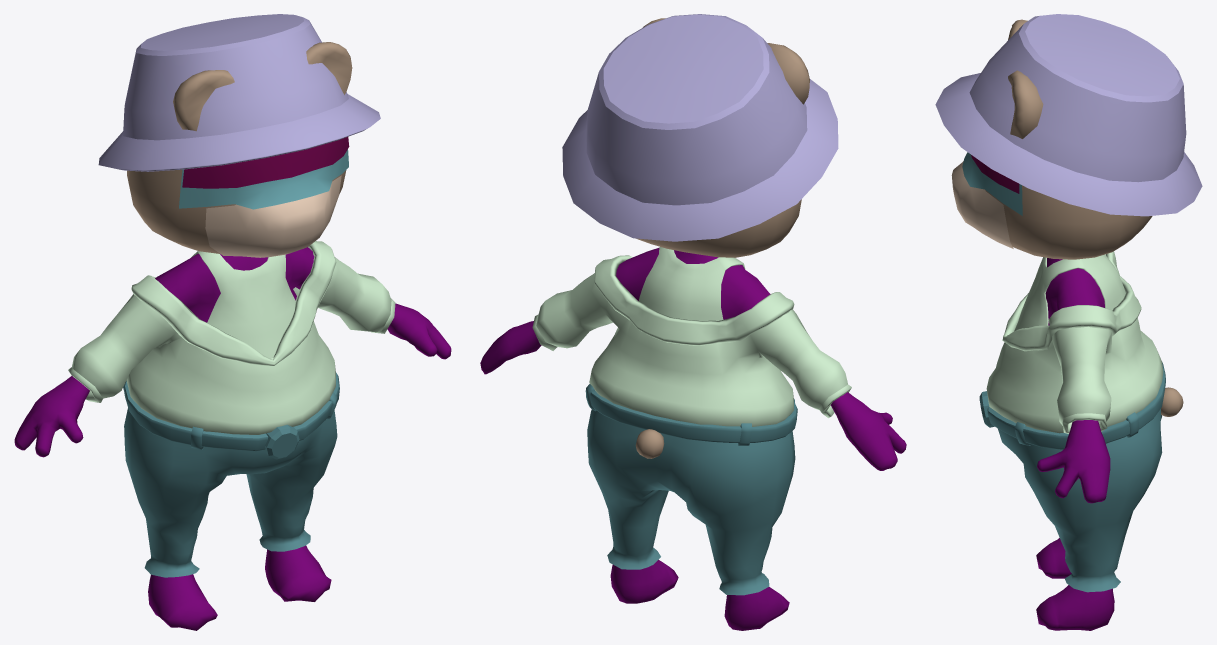
File: CHARA_AIDA_MODEL.fbx
3 views of the same model, side by side, from view 1: azimuth 30°, elevation 25°; view 2: azimuth 150°, elevation 25°; view 3: azimuth 270°, elevation 25° (orthographic). The views are drawn at different scales.
Parts seen in each view (by area): view 1: CHARA_AIDA_TOP_MODEL, CHARA_AIDA_EXTRAS_MODEL, CHARA_AIDA_BOTTOM_MODEL, CHARA_AIDA_SMALLBODY_MODEL, CHARA_AIDA_HEAD_MODEL, CHARA_AIDA_EYES_MODEL, CHARA_AIDA_EYEBROWS_MODEL, CHARA_AIDA_MOUTH_MODEL; view 2: CHARA_AIDA_EXTRAS_MODEL, CHARA_AIDA_TOP_MODEL, CHARA_AIDA_BOTTOM_MODEL, CHARA_AIDA_SMALLBODY_MODEL, CHARA_AIDA_HEAD_MODEL; view 3: CHARA_AIDA_EXTRAS_MODEL, CHARA_AIDA_TOP_MODEL, CHARA_AIDA_BOTTOM_MODEL, CHARA_AIDA_SMALLBODY_MODEL, CHARA_AIDA_HEAD_MODEL, CHARA_AIDA_EYES_MODEL, CHARA_AIDA_MOUTH_MODEL, CHARA_AIDA_EYEBROWS_MODEL.
Part boxes in pixels (box(x1,y1,x2,y2)): CHARA_AIDA_TOP_MODEL: box(68, 241, 395, 434); CHARA_AIDA_EXTRAS_MODEL: box(98, 14, 380, 171); CHARA_AIDA_BOTTOM_MODEL: box(123, 372, 339, 577); CHARA_AIDA_SMALLBODY_MODEL: box(14, 247, 451, 630); CHARA_AIDA_HEAD_MODEL: box(127, 42, 352, 253); CHARA_AIDA_EYES_MODEL: box(205, 175, 341, 257); CHARA_AIDA_EYEBROWS_MODEL: box(182, 137, 349, 188); CHARA_AIDA_MOUTH_MODEL: box(179, 149, 348, 209); CHARA_AIDA_EXTRAS_MODEL: box(562, 14, 838, 241); CHARA_AIDA_TOP_MODEL: box(532, 247, 851, 426); CHARA_AIDA_BOTTOM_MODEL: box(585, 384, 797, 595); CHARA_AIDA_SMALLBODY_MODEL: box(480, 248, 906, 630); CHARA_AIDA_HEAD_MODEL: box(635, 18, 809, 458); CHARA_AIDA_EXTRAS_MODEL: box(935, 14, 1202, 216); CHARA_AIDA_TOP_MODEL: box(986, 251, 1163, 433); CHARA_AIDA_BOTTOM_MODEL: box(979, 362, 1165, 592); CHARA_AIDA_SMALLBODY_MODEL: box(1036, 258, 1114, 630); CHARA_AIDA_HEAD_MODEL: box(985, 19, 1183, 416); CHARA_AIDA_EYES_MODEL: box(951, 161, 1013, 248); CHARA_AIDA_MOUTH_MODEL: box(962, 152, 1022, 215); CHARA_AIDA_EYEBROWS_MODEL: box(971, 155, 1019, 193).
Bounding box in the file's own units: 97.89 × 129 × 55.12.
